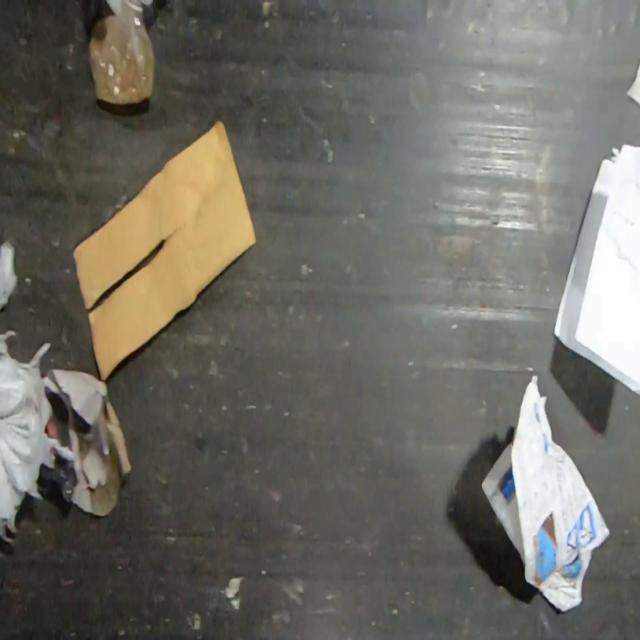cardboard: (71, 116, 258, 382)
rigid_plastic: (86, 0, 158, 108)
soft_plastic: (0, 329, 77, 547), (0, 237, 19, 313)
